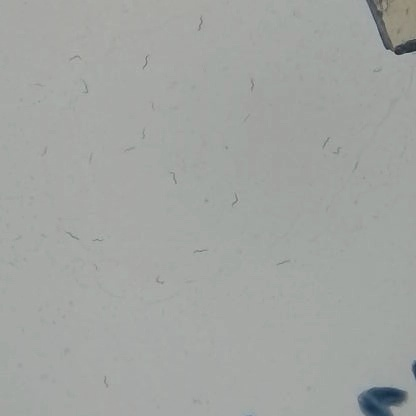worm: (87, 233, 106, 255), (228, 187, 242, 211), (138, 51, 152, 74), (100, 369, 114, 392), (189, 244, 211, 258), (273, 254, 290, 272), (152, 272, 168, 290), (168, 163, 178, 191), (61, 230, 82, 243), (195, 12, 206, 36), (329, 142, 344, 159), (66, 52, 85, 65), (247, 74, 259, 93), (238, 113, 253, 128), (84, 151, 96, 169), (124, 140, 134, 161), (81, 77, 91, 97), (321, 134, 332, 152), (190, 396, 205, 409), (370, 63, 383, 78), (29, 80, 46, 91), (351, 158, 362, 174), (139, 126, 148, 144), (38, 145, 50, 158), (149, 99, 158, 114)
